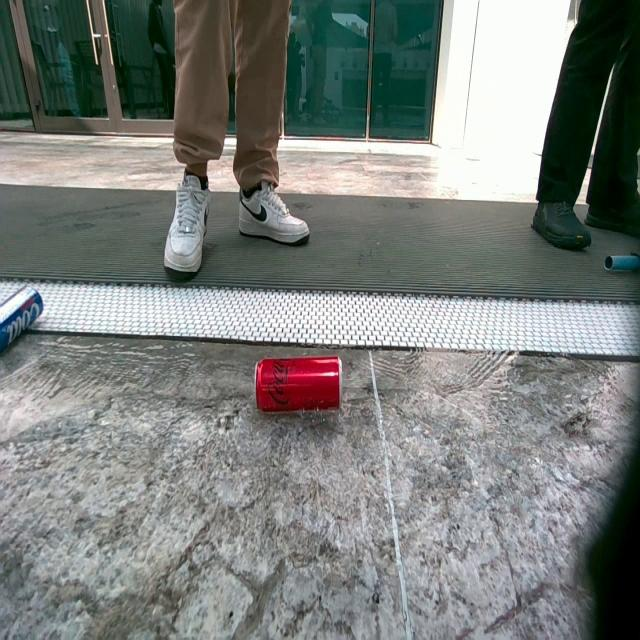Cans: (256, 355, 342, 417), (0, 283, 41, 365)
